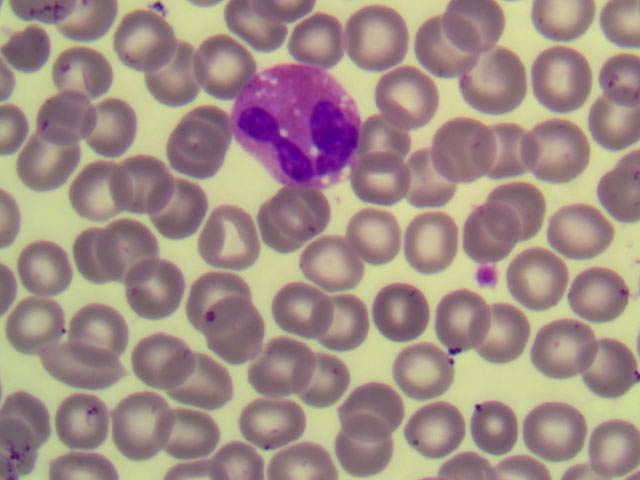Platelets: (476, 263, 501, 282)
RBC: (331, 422, 388, 480), (280, 422, 337, 480), (48, 44, 105, 101), (115, 10, 172, 67), (149, 43, 206, 100), (187, 31, 244, 88), (291, 10, 348, 67), (353, 8, 410, 65), (380, 70, 437, 127), (413, 15, 470, 72), (466, 51, 523, 108), (519, 47, 576, 104), (583, 46, 640, 103), (583, 102, 640, 159), (583, 168, 640, 225), (548, 204, 605, 261), (492, 174, 549, 231), (451, 209, 508, 266), (535, 121, 592, 178), (479, 121, 536, 178), (426, 120, 483, 177), (400, 151, 457, 208), (362, 136, 419, 193), (353, 107, 410, 164), (348, 201, 405, 258), (405, 207, 462, 264), (377, 279, 434, 336), (430, 289, 487, 346), (463, 300, 520, 357), (541, 322, 598, 379), (583, 339, 640, 396), (574, 264, 631, 321), (513, 247, 570, 304), (529, 405, 586, 462), (583, 420, 640, 477), (458, 399, 515, 456), (402, 400, 459, 457), (388, 341, 445, 398), (350, 378, 407, 435), (238, 396, 295, 453), (247, 334, 304, 391), (304, 347, 361, 404), (262, 276, 319, 333), (322, 291, 379, 348), (303, 226, 360, 283), (274, 172, 331, 229), (264, 195, 321, 252), (206, 210, 263, 267), (156, 183, 213, 240), (117, 153, 174, 210), (69, 162, 126, 219), (81, 93, 138, 150), (32, 93, 89, 150), (14, 136, 71, 193), (4, 238, 61, 295), (65, 231, 122, 288), (106, 211, 163, 268), (119, 262, 176, 319), (181, 260, 238, 317), (202, 298, 259, 355), (174, 361, 231, 418), (133, 326, 190, 383), (57, 332, 114, 389), (72, 301, 129, 358), (11, 290, 68, 347), (57, 390, 114, 447), (107, 394, 164, 451), (151, 402, 208, 459), (2, 394, 59, 451), (215, 1, 272, 57), (450, 1, 507, 57), (531, 1, 588, 57)
WBC: (229, 59, 361, 192)
